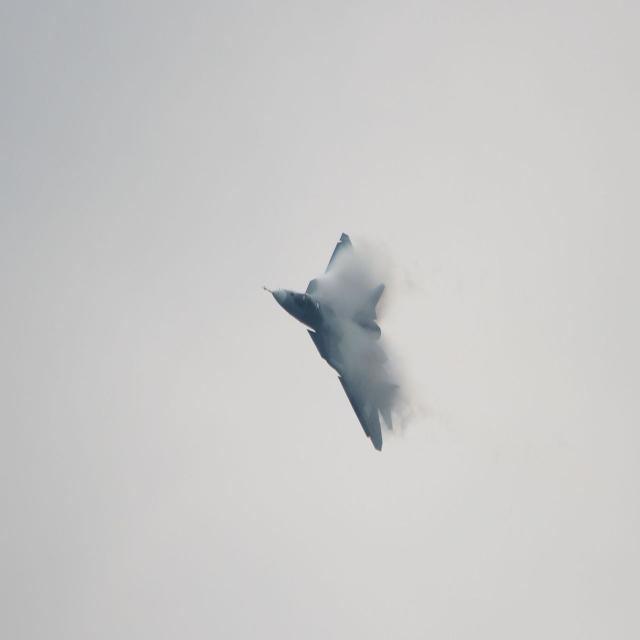MIL_Plane: (260, 232, 400, 452)
